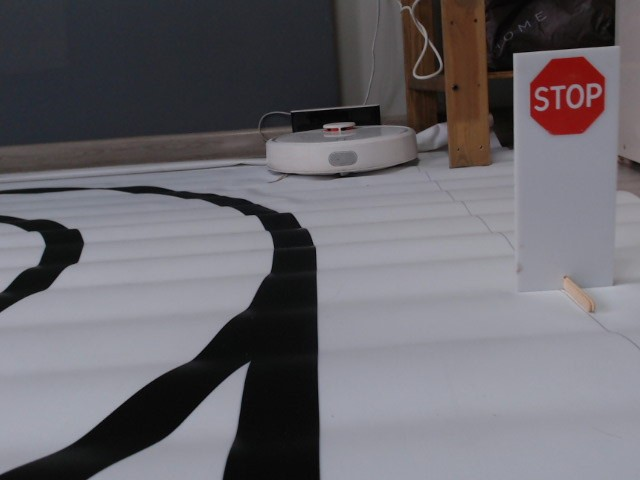Stop: (527, 54, 607, 137)
